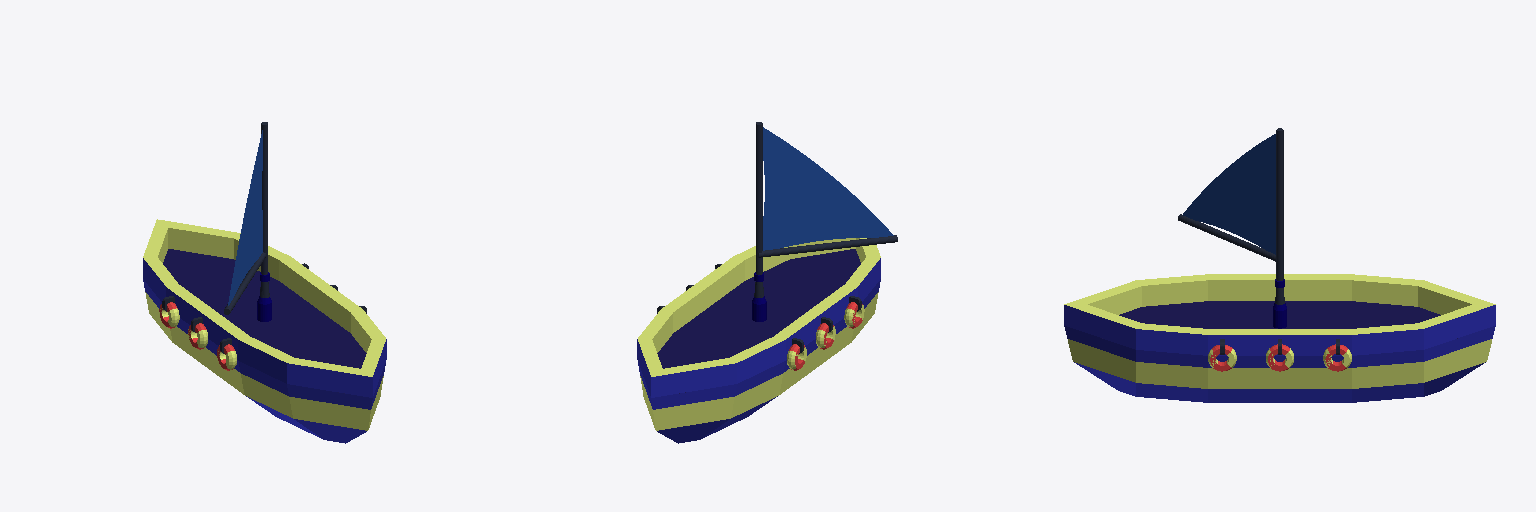
File: Boat3.obj
3 renders of one model, left to right at view 1: azimuth 30°, elevation 25°; view 2: azimuth 150°, elevation 25°; view 3: azimuth 270°, elevation 25°, orthographic.
Visible parts, largest first — view 1: hull_halfFront, rail_front, hull_half, rail, sail_triangle, detail_tireEmergencyAttachment, mast_middle, mast_bottomDetailed; view 2: hull_halfFront, sail_triangle, rail_front, hull_half, rail, mast_middle, detail_tireEmergencyAttachment, mast_bottomDetailed; view 3: hull_halfFront, rail_front, hull_half, rail, sail_triangle, mast_middle, detail_tireEmergencyAttachment, mast_bottomDetailed.
Part boxes in pixels (x1,y1,x2,y2): hull_halfFront: (143,249,385,443); rail_front: (143,219,386,397); hull_half: (170,281,349,394); rail: (166,257,361,359); sail_triangle: (228,130,262,305); detail_tireEmergencyAttachment: (159,263,366,370); mast_middle: (224,122,267,314); mast_bottomDetailed: (257,255,271,321); hull_halfFront: (638,249,880,443); sail_triangle: (763,127,893,250); rail_front: (637,238,880,397); hull_half: (674,281,853,394); rail: (662,257,857,359); mast_middle: (756,122,897,257); detail_tireEmergencyAttachment: (657,264,864,370); mast_bottomDetailed: (752,255,766,321); hull_halfFront: (1064,301,1495,402); rail_front: (1064,274,1495,355); hull_half: (1208,301,1351,402); rail: (1208,274,1351,355); sail_triangle: (1183,134,1275,254); mast_middle: (1178,128,1283,261); detail_tireEmergencyAttachment: (1208,339,1351,371); mast_bottomDetailed: (1273,260,1286,328).
Size of the model in its own units: 1.3 by 2 by 3.